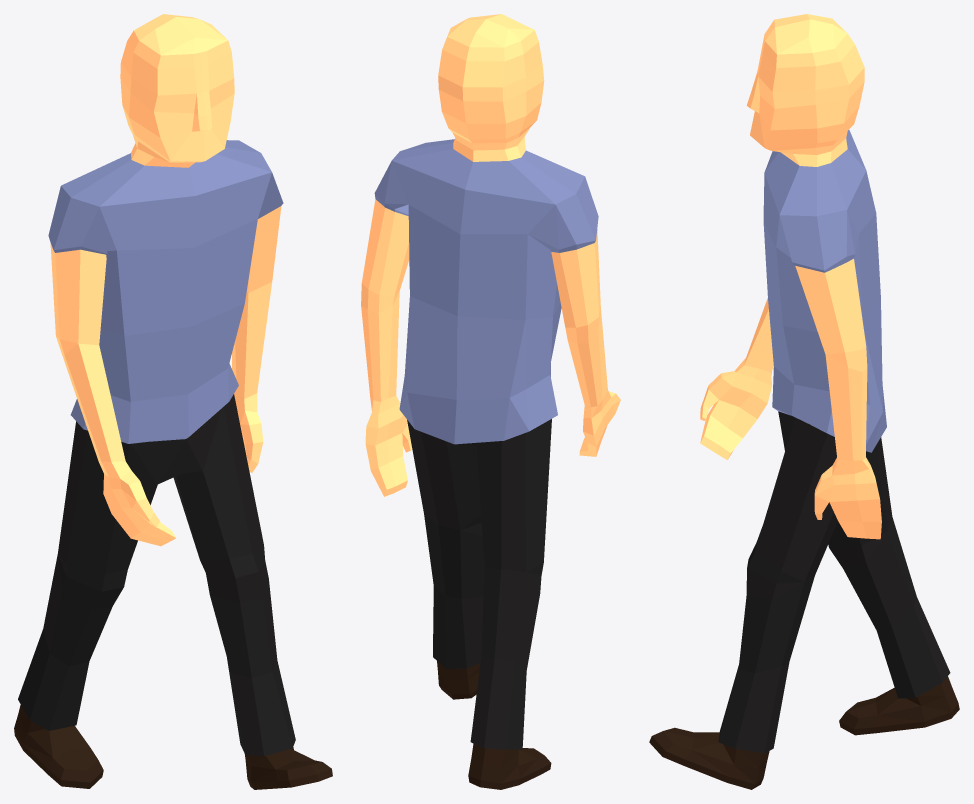
The model's file is male_walking.glb.
3 renders of one model, left to right at view 1: azimuth 30°, elevation 25°; view 2: azimuth 150°, elevation 25°; view 3: azimuth 270°, elevation 25°, orthographic. The views are drawn at different scales.
Parts seen in each view (by area): view 1: Male_Walking; view 2: Male_Walking; view 3: Male_Walking.
Boxes of the visible parts, left/top/right/bottom form: Male_Walking: left=14, top=14, right=332, bottom=789; Male_Walking: left=361, top=14, right=620, bottom=789; Male_Walking: left=649, top=14, right=959, bottom=789.
Size of the model in its own units: 0.5859 by 1.85 by 0.7024.
